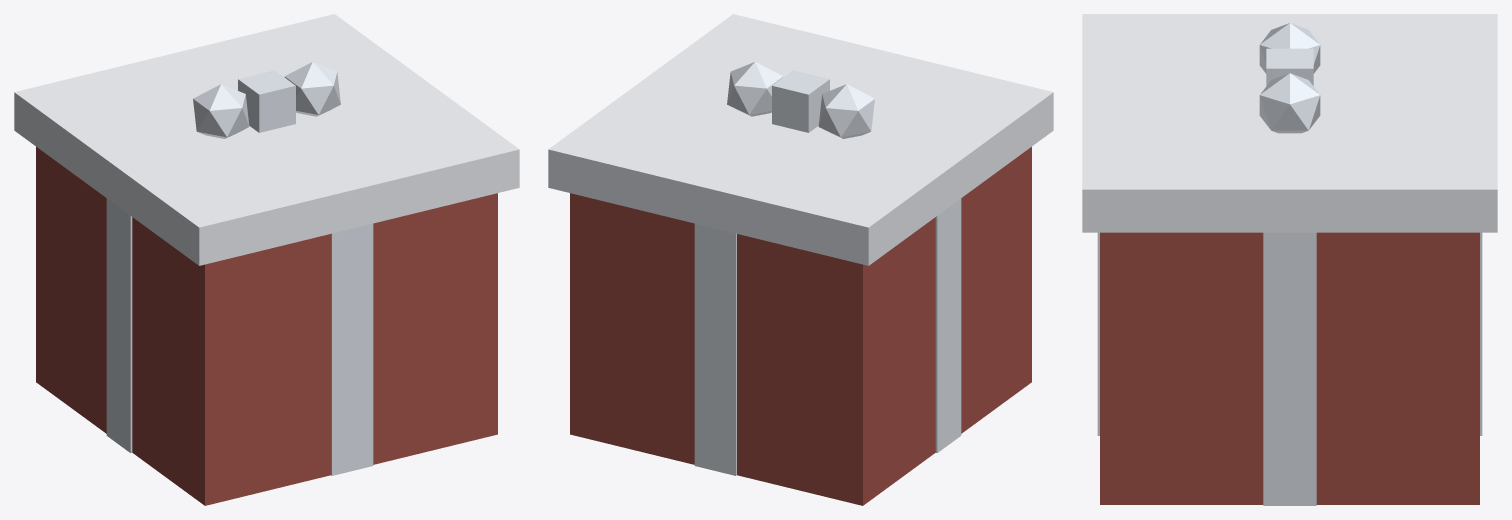
The model's file is giant_gift.fbx.
The picture shows the model from 3 angles, left to right: view 1: azimuth 30°, elevation 25°; view 2: azimuth 150°, elevation 25°; view 3: azimuth 270°, elevation 25°; orthographic projection. The views are drawn at different scales.
Visible parts, largest first — view 1: giant_gift; view 2: giant_gift; view 3: giant_gift.
Boxes of the visible parts, box(x1,y1,x2,y2) form: giant_gift: box(14, 14, 519, 505); giant_gift: box(548, 14, 1053, 505); giant_gift: box(1082, 14, 1497, 505).
Size of the model in its own units: 450 by 450 by 450.
